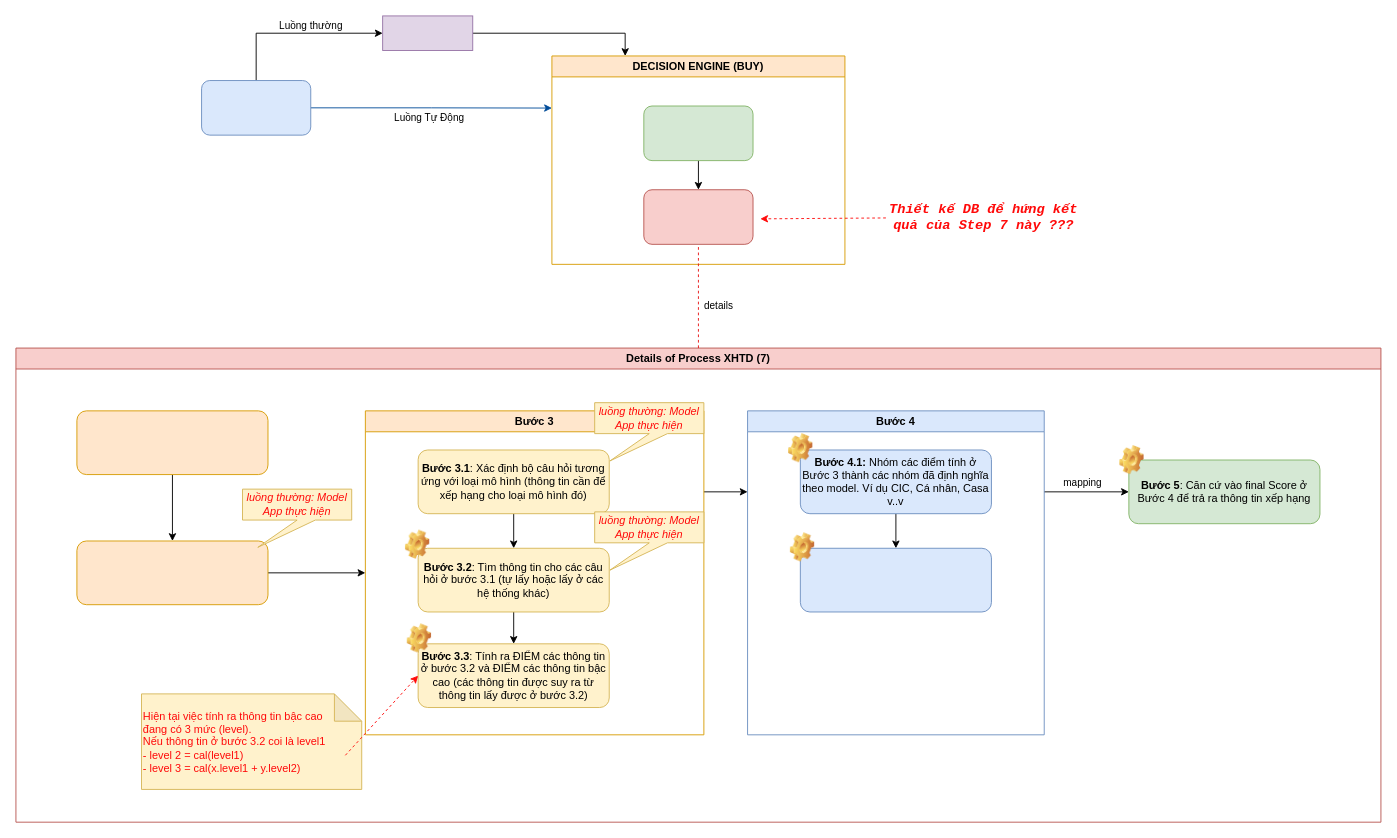
This 1397x838 diagram has some shape labels left out. The centre of each missing label's shape, as x and y in pixels:
Bước 1 : Tiếp nhận các thông tin cơ bản đủ để nhận diện mô hình: the point at 172,442
Bước 2 : Xác định loại mô hình dựa trên thông tin ở bước 1: the point at 172,572
Bước 4.2 : Tính Final Score dựa vào điểm ở bước 4.1: the point at 895,579
DIGILENDING: the point at 256,107
Model App: the point at 427,33
Process flow 1 - 6: the point at 698,133
Process XHTD (7): the point at 698,216
